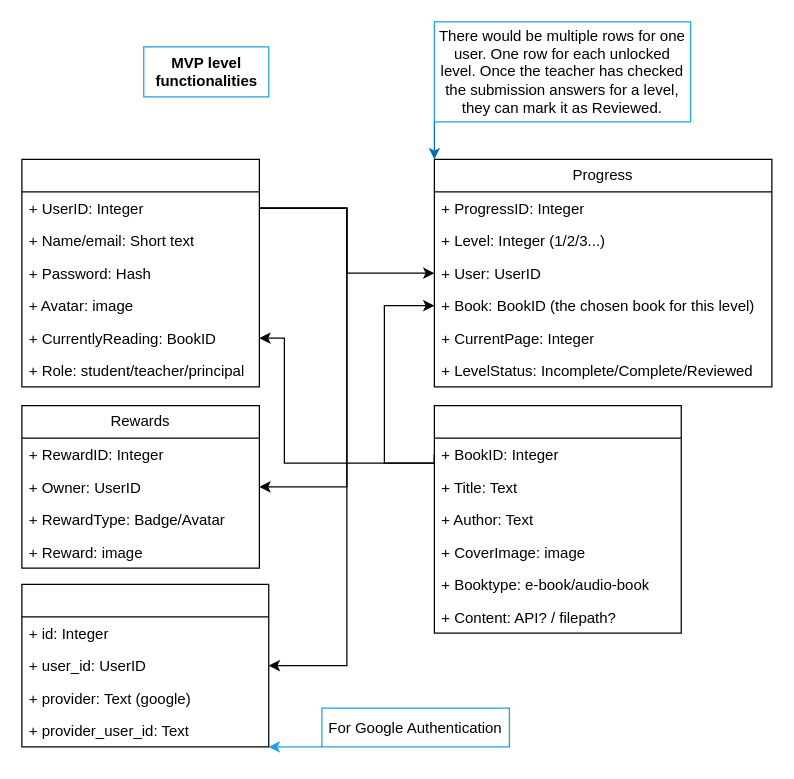
The diagram is 794 pixels wide and 779 high, and some of its shapes have lost their labels. The shapes that lost their labels are listed below. From the top down, each one's box as (x1, y1, x2, y2) in pixels, then its label:
(21, 158, 259, 387): Users
(433, 404, 681, 633): Books
(21, 583, 269, 747): federated_credentials
